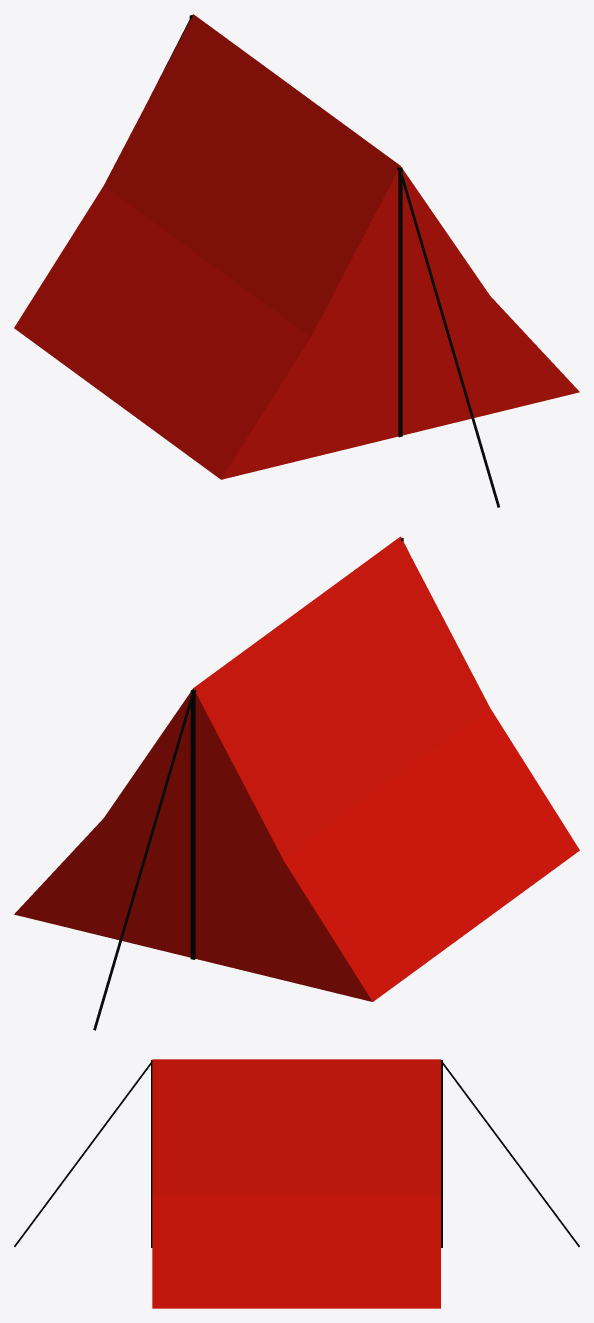
File: tent2.fbx
3 views of the same model, one above another, from view 1: azimuth 30°, elevation 25°; view 2: azimuth 150°, elevation 25°; view 3: azimuth 270°, elevation 25° (orthographic). The views are drawn at different scales.
Parts seen in each view (by area): view 1: Cube, Cube.002, Cube.004; view 2: Cube, Cube.001, Cube.003; view 3: Cube, Cube.004, Cube.003, Cube.002, Cube.001.
Boxes of the visible parts, left/top/right/bottom form: Cube: left=14, top=14, right=579, bottom=479; Cube.002: left=397, top=167, right=402, bottom=437; Cube.004: left=400, top=170, right=499, bottom=507; Cube: left=14, top=536, right=579, bottom=1001; Cube.001: left=190, top=689, right=196, bottom=959; Cube.003: left=93, top=693, right=193, bottom=1030; Cube: left=152, top=1059, right=440, bottom=1308; Cube.004: left=14, top=1062, right=150, bottom=1246; Cube.003: left=443, top=1062, right=579, bottom=1246; Cube.002: left=151, top=1060, right=153, bottom=1247; Cube.001: left=440, top=1060, right=442, bottom=1247.
Size of the model in its own units: 2 by 1.44 by 3.92.
